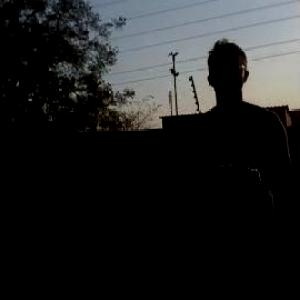follow: (180, 35, 298, 299)
